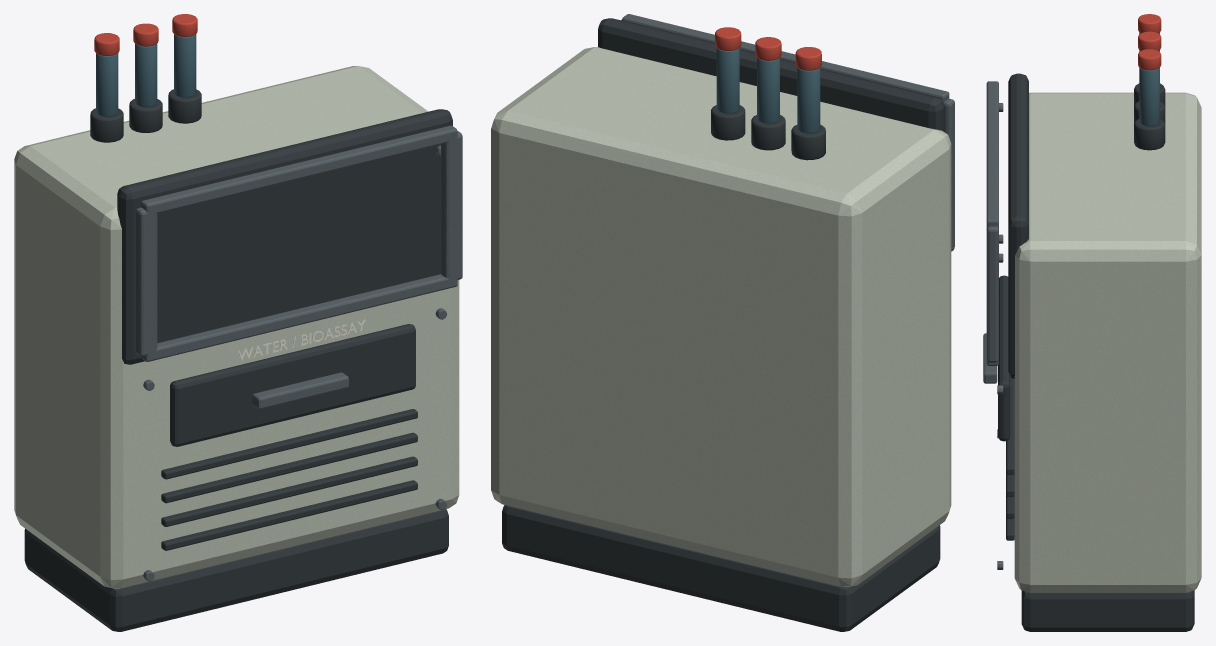
File: ClinicConsole.fbx
3 renders of one model, left to right at view 1: azimuth 30°, elevation 25°; view 2: azimuth 150°, elevation 25°; view 3: azimuth 270°, elevation 25°, orthographic. The views are drawn at different scales.
Parts seen in each view (by area): view 1: RiverClinicEnamel_Surface__UnityExport, CinemaDark_Surface.004__UnityExport, CinemaSteel_Surface.005__UnityExport, CinemaGlass_Surface.001__UnityExport, CinemaRed_Surface.004__UnityExport, CinemaCream_Surface.005__UnityExport; view 2: RiverClinicEnamel_Surface__UnityExport, CinemaDark_Surface.004__UnityExport, CinemaGlass_Surface.001__UnityExport, CinemaSteel_Surface.005__UnityExport, CinemaRed_Surface.004__UnityExport; view 3: RiverClinicEnamel_Surface__UnityExport, CinemaDark_Surface.004__UnityExport, CinemaSteel_Surface.005__UnityExport, CinemaRed_Surface.004__UnityExport, CinemaGlass_Surface.001__UnityExport.
Part boxes in pixels (x1,y1,x2,y2): RiverClinicEnamel_Surface__UnityExport: (14, 66, 459, 588); CinemaDark_Surface.004__UnityExport: (24, 89, 452, 631); CinemaSteel_Surface.005__UnityExport: (135, 125, 462, 581); CinemaGlass_Surface.001__UnityExport: (96, 34, 196, 116); CinemaRed_Surface.004__UnityExport: (94, 14, 197, 55); CinemaCream_Surface.005__UnityExport: (238, 319, 365, 360); RiverClinicEnamel_Surface__UnityExport: (491, 47, 951, 586); CinemaDark_Surface.004__UnityExport: (502, 18, 944, 631); CinemaGlass_Surface.001__UnityExport: (716, 48, 820, 133); CinemaSteel_Surface.005__UnityExport: (621, 14, 954, 251); CinemaRed_Surface.004__UnityExport: (715, 27, 821, 70); RiverClinicEnamel_Surface__UnityExport: (1014, 92, 1201, 592); CinemaDark_Surface.004__UnityExport: (998, 73, 1194, 631); CinemaSteel_Surface.005__UnityExport: (983, 81, 1003, 569); CinemaRed_Surface.004__UnityExport: (1138, 14, 1161, 70); CinemaGlass_Surface.001__UnityExport: (1139, 32, 1159, 126).
Bounding box in the file's own units: 1.1 × 1.57 × 0.63.
